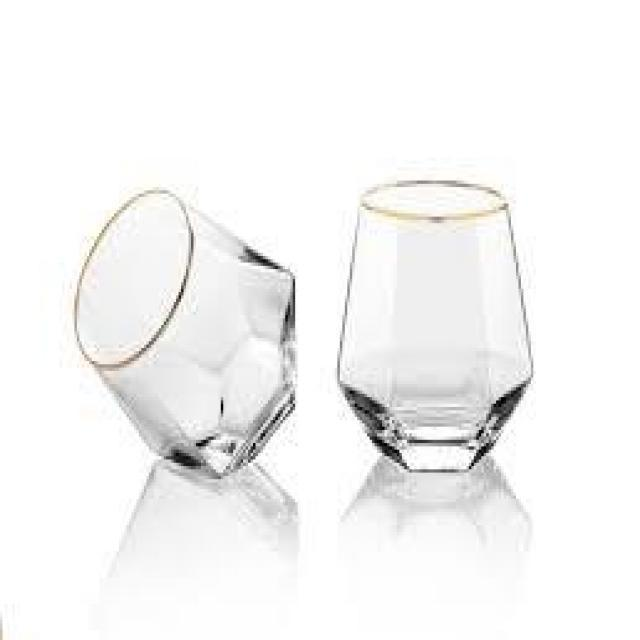glass: (70, 185, 296, 488), (333, 178, 534, 474)
